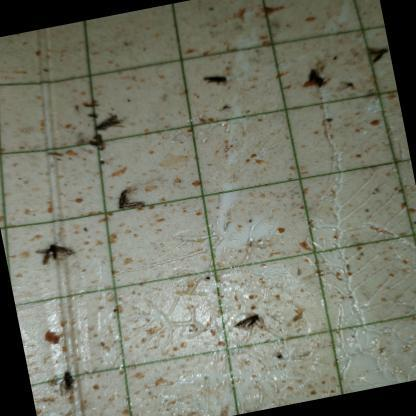prays_oleae: (284, 53, 335, 103), (34, 236, 78, 279), (91, 99, 129, 146), (359, 31, 393, 73), (198, 63, 229, 99), (229, 305, 265, 333), (110, 180, 132, 222)
